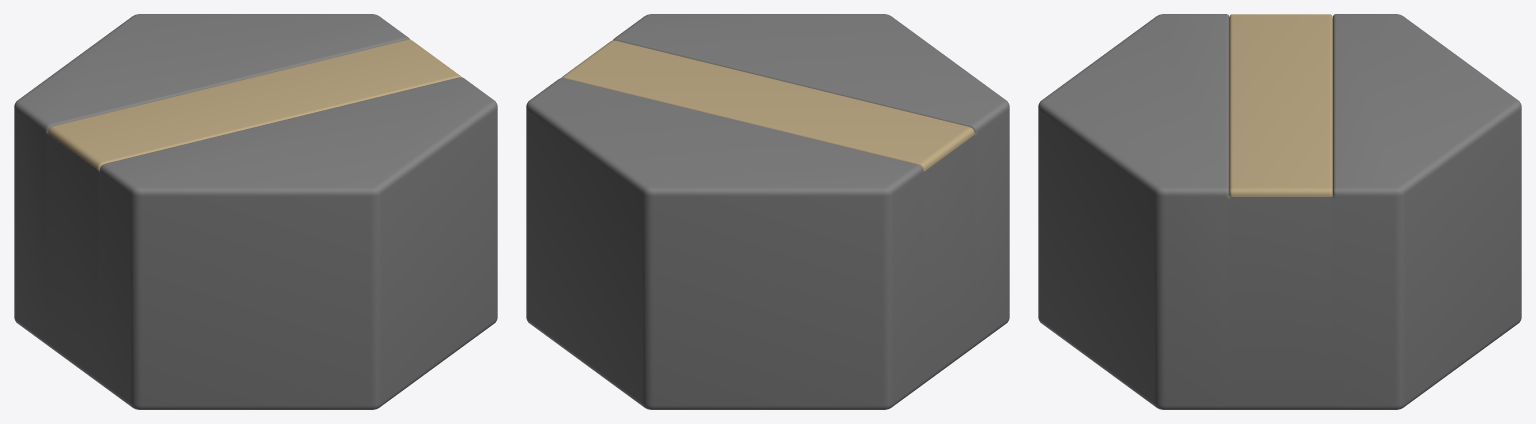
Rendered from Road0.fbx.
3 views of the same model, side by side, from view 1: azimuth 30°, elevation 25°; view 2: azimuth 150°, elevation 25°; view 3: azimuth 270°, elevation 25° (orthographic).
Visible parts, largest first — view 1: Cylinder006; view 2: Cylinder006; view 3: Cylinder006.
Boxes of the visible parts, box(x1,y1,x2,y2) form: Cylinder006: box(14, 14, 497, 409); Cylinder006: box(526, 14, 1009, 409); Cylinder006: box(1038, 14, 1521, 409).
Bounding box in the file's own units: 173 × 100 × 199.
